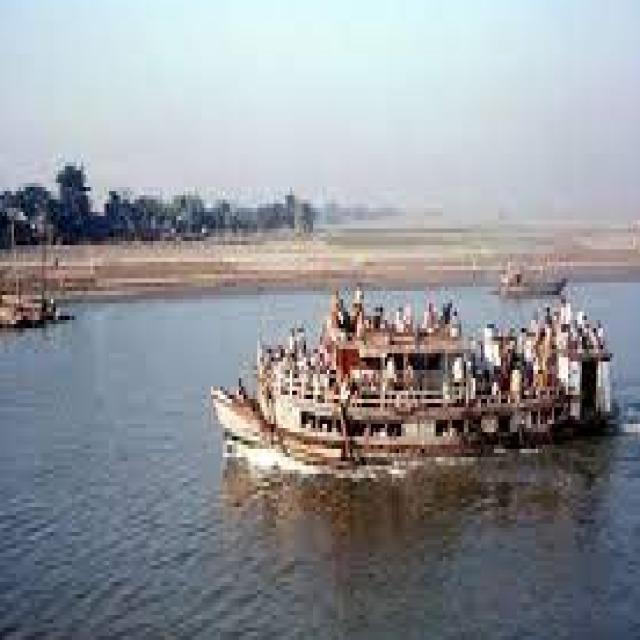houseboat: (211, 224, 617, 502)
